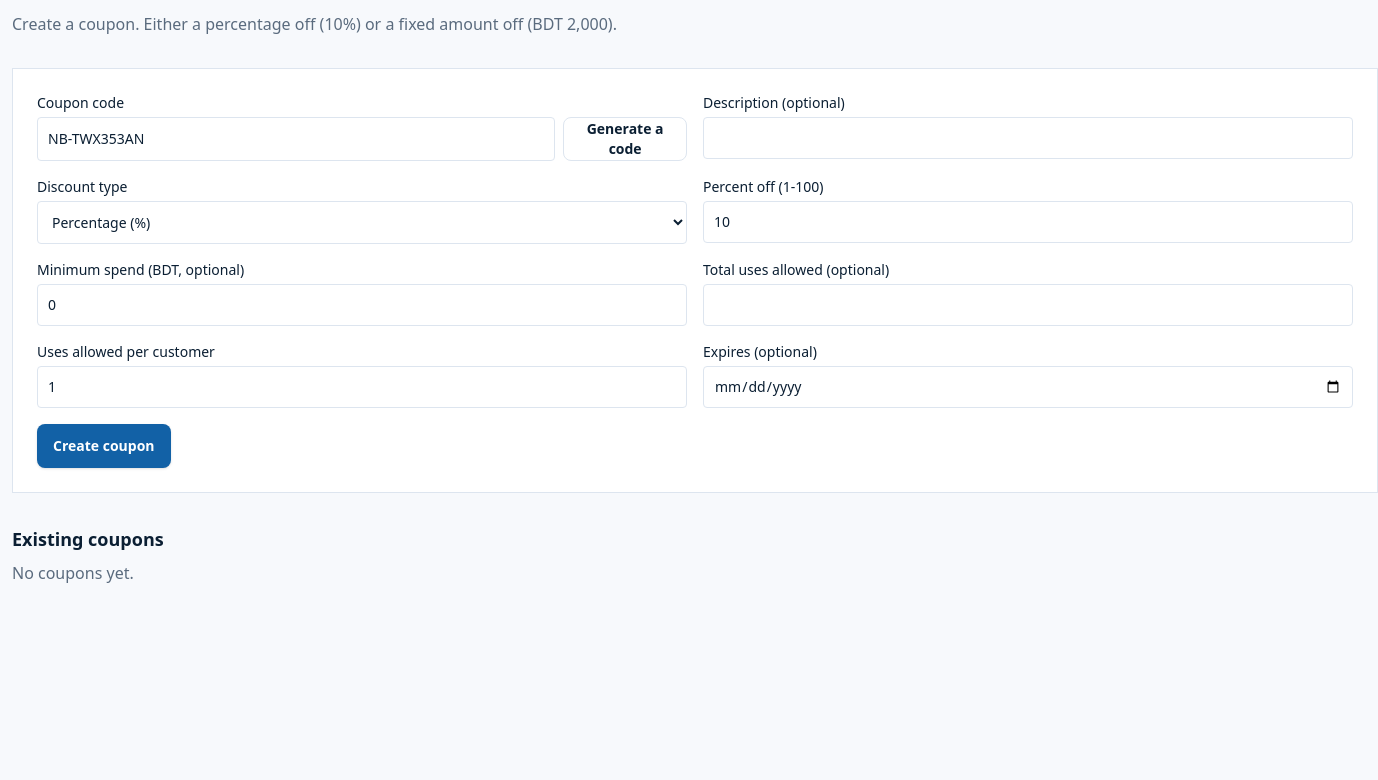
CouponManager › does not claim success when the API refuses
Expected: the field labelled "Coupon code Generate a code" is shown, [37,117,555,161]
Click the button "Create coupon" at (104, 446), box [37,424,170,468]
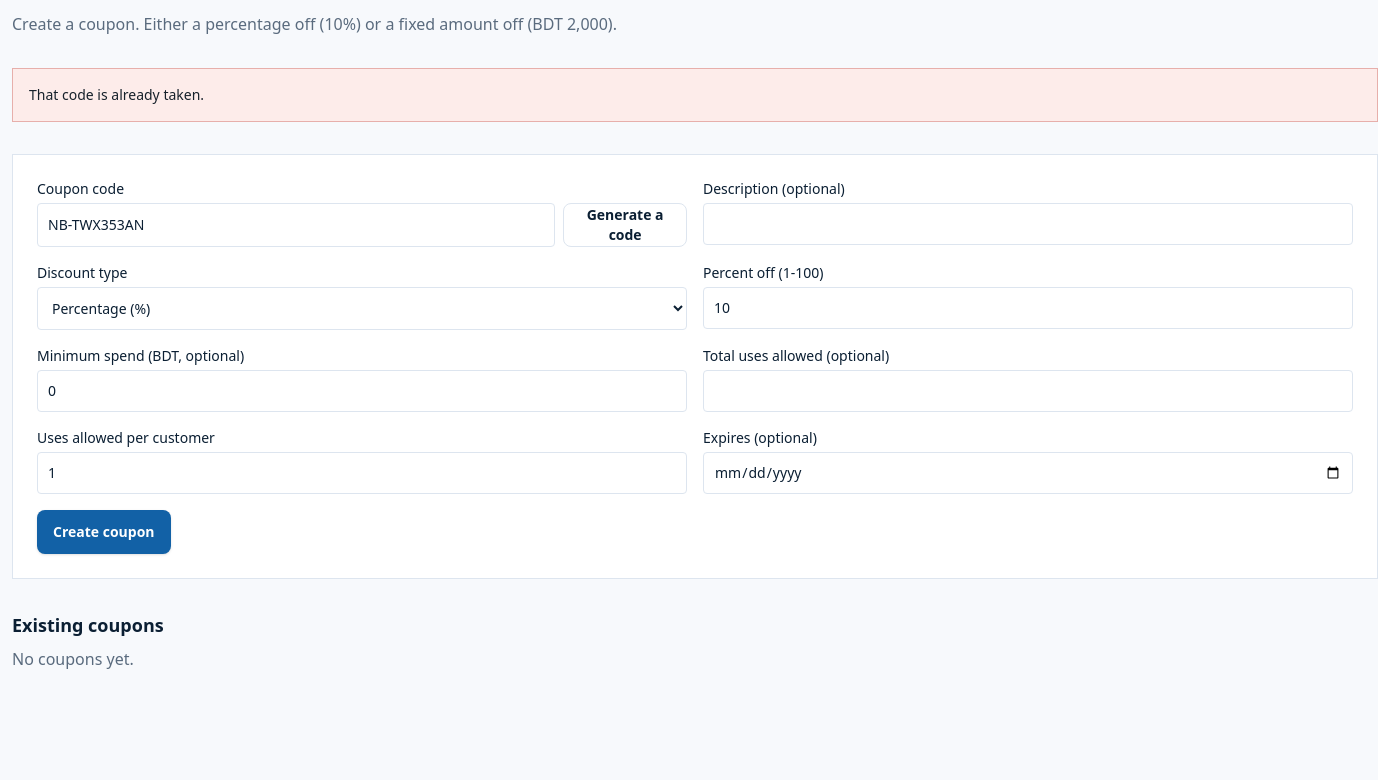
Expected: the message reads "That code is already taken.", [29,85,204,104]
